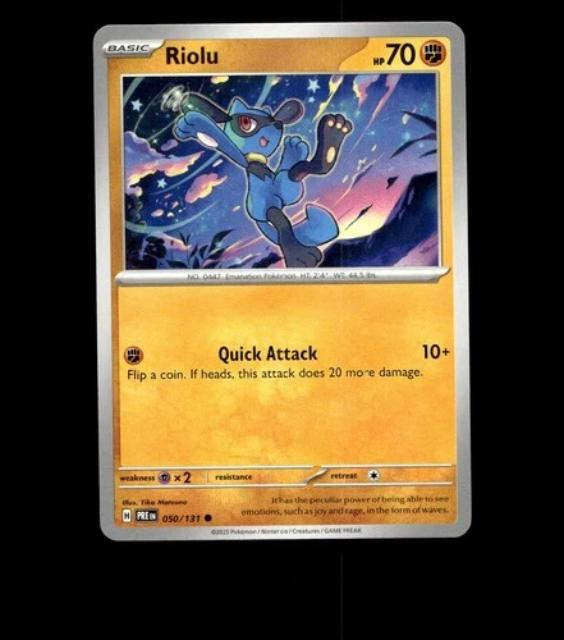Card: (91, 12, 479, 548)
Name: (160, 38, 224, 69)
